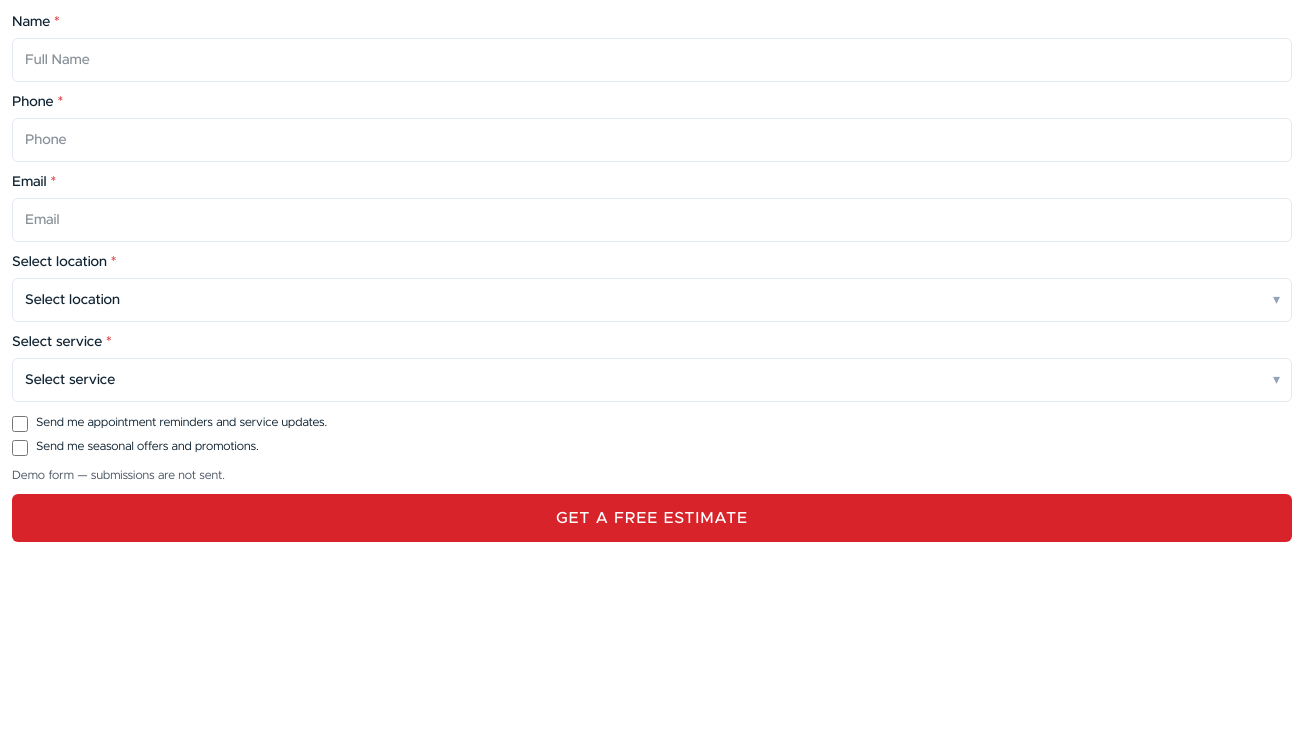
Scenario: EstimateForm › rejects malformed email and phone with field-level errors
Type "Jane" into the field labelled "Name *" at x=652, y=60, box [12,38,1292,82]
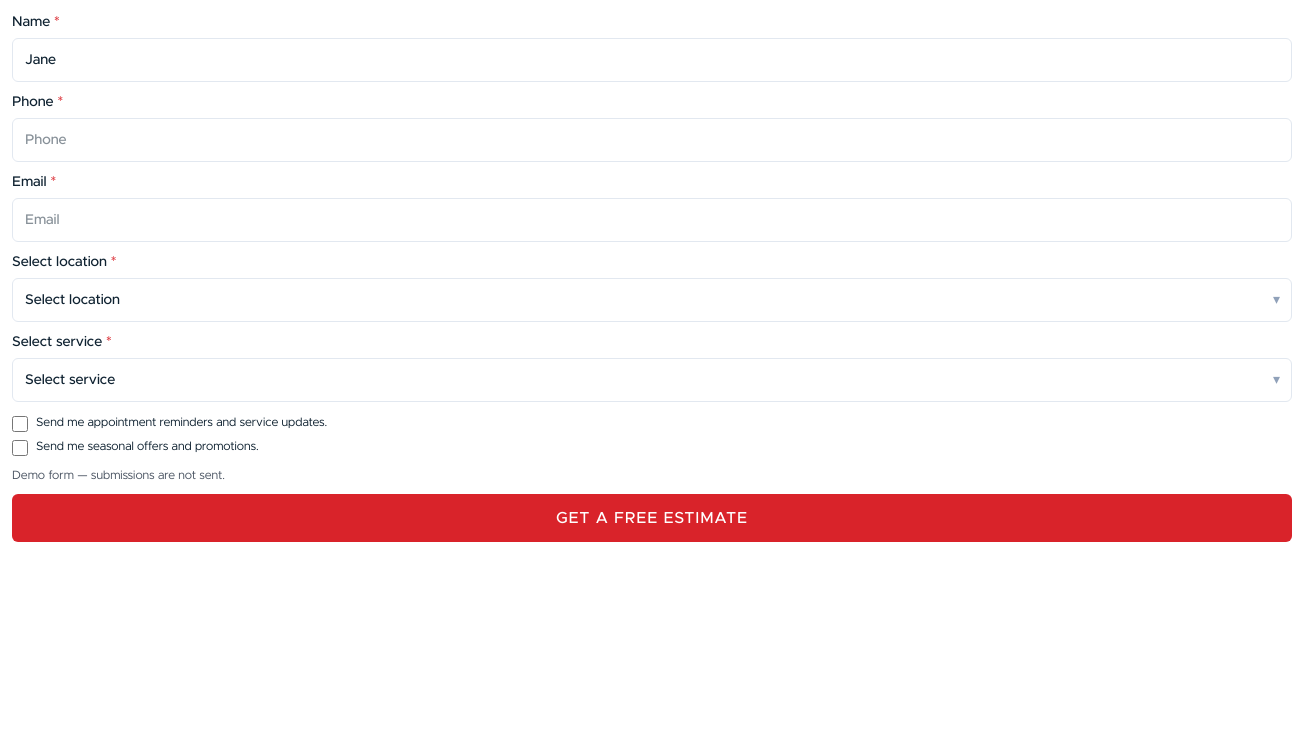
Type "abc" into the field labelled "Phone *" at x=652, y=140, box [12,118,1292,162]
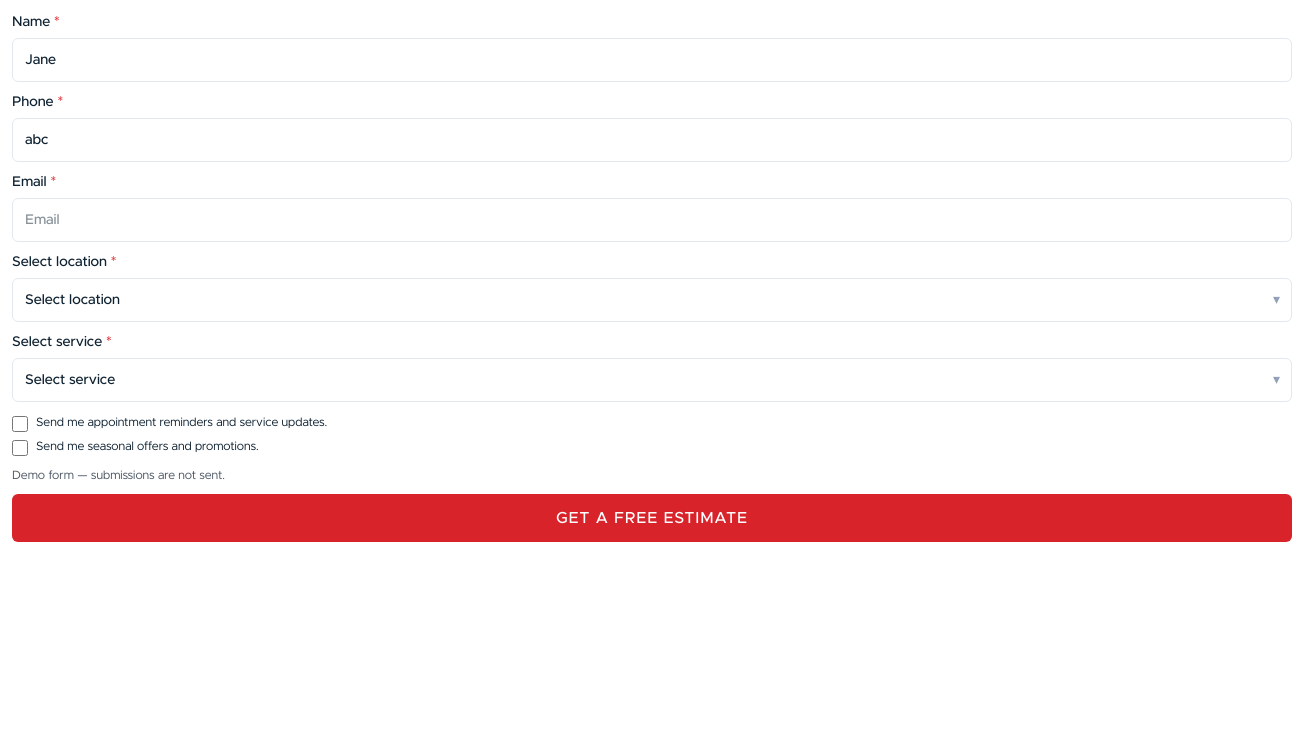
Type "not-an-email" into the field labelled "Email *" at x=652, y=220, box [12,198,1292,242]
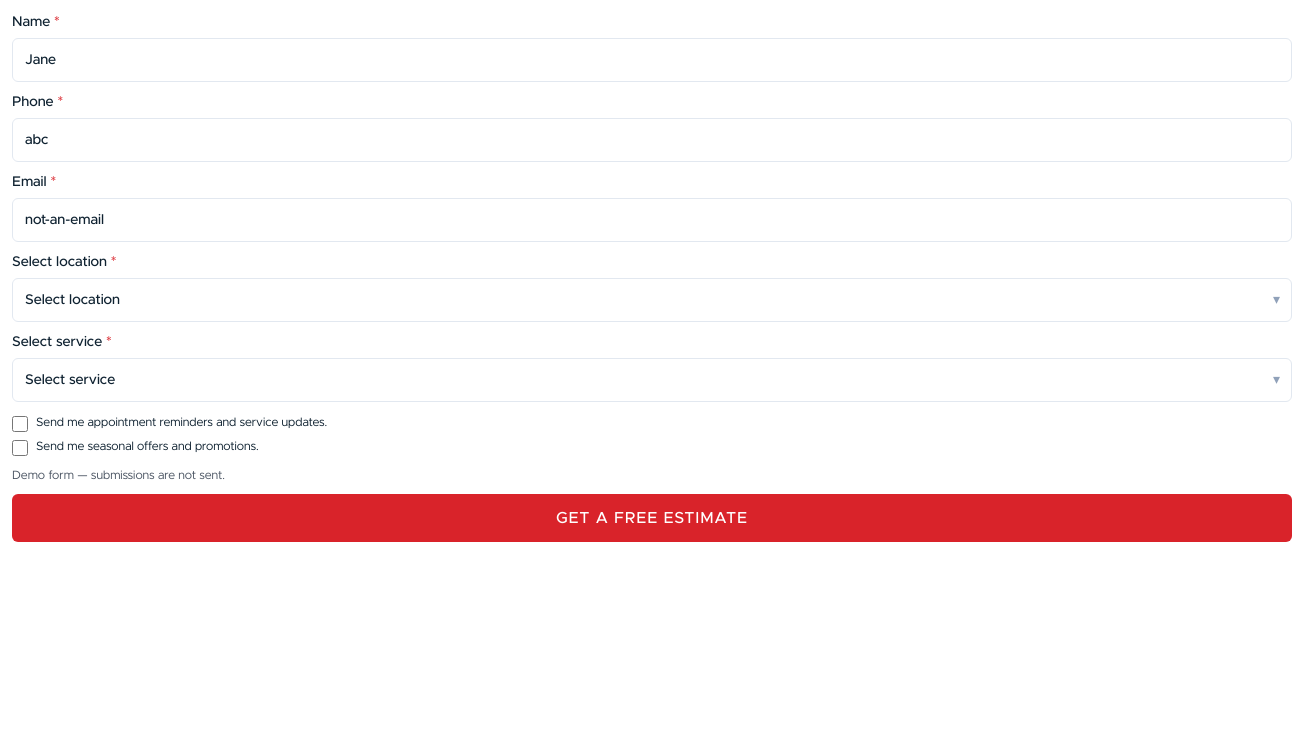
Select "Nashville Area" in the dropdown labelled "Select location *" at x=652, y=300, box [12,278,1292,322]
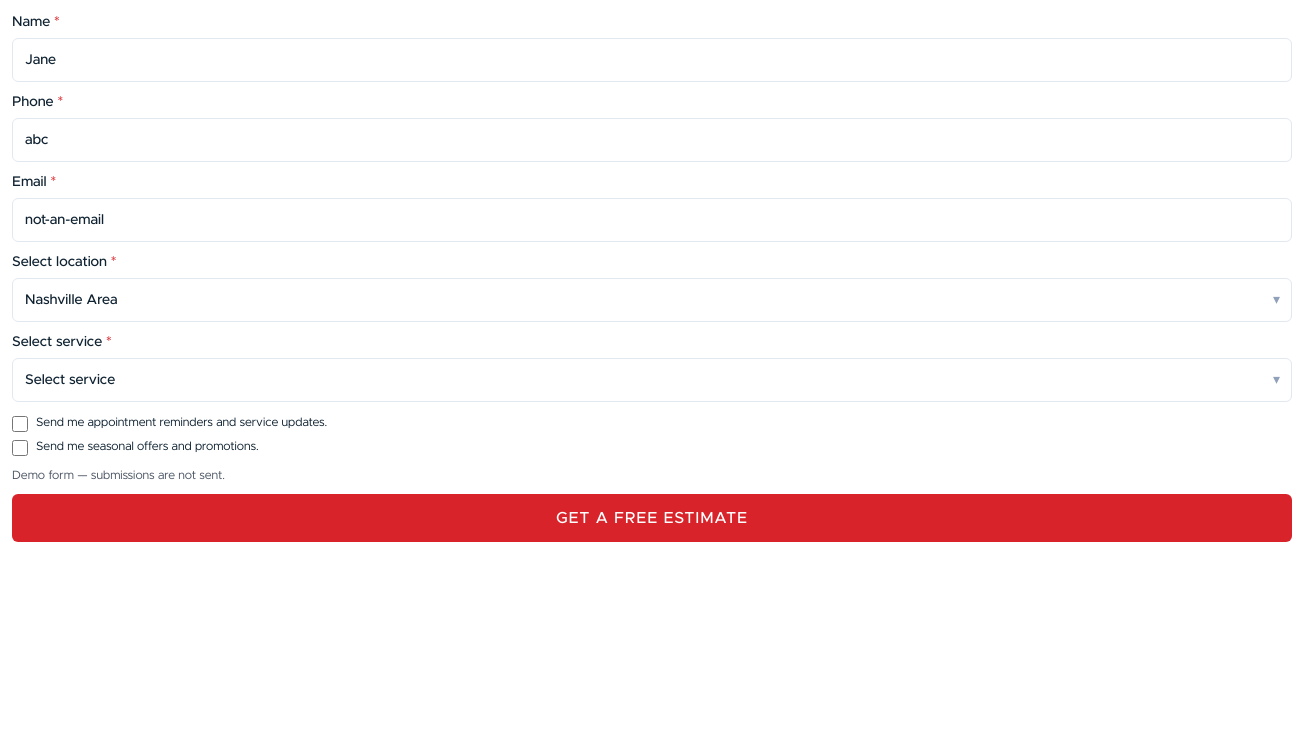
Select "Roofing" in the dropdown labelled "Select service *" at x=652, y=380, box [12,358,1292,402]
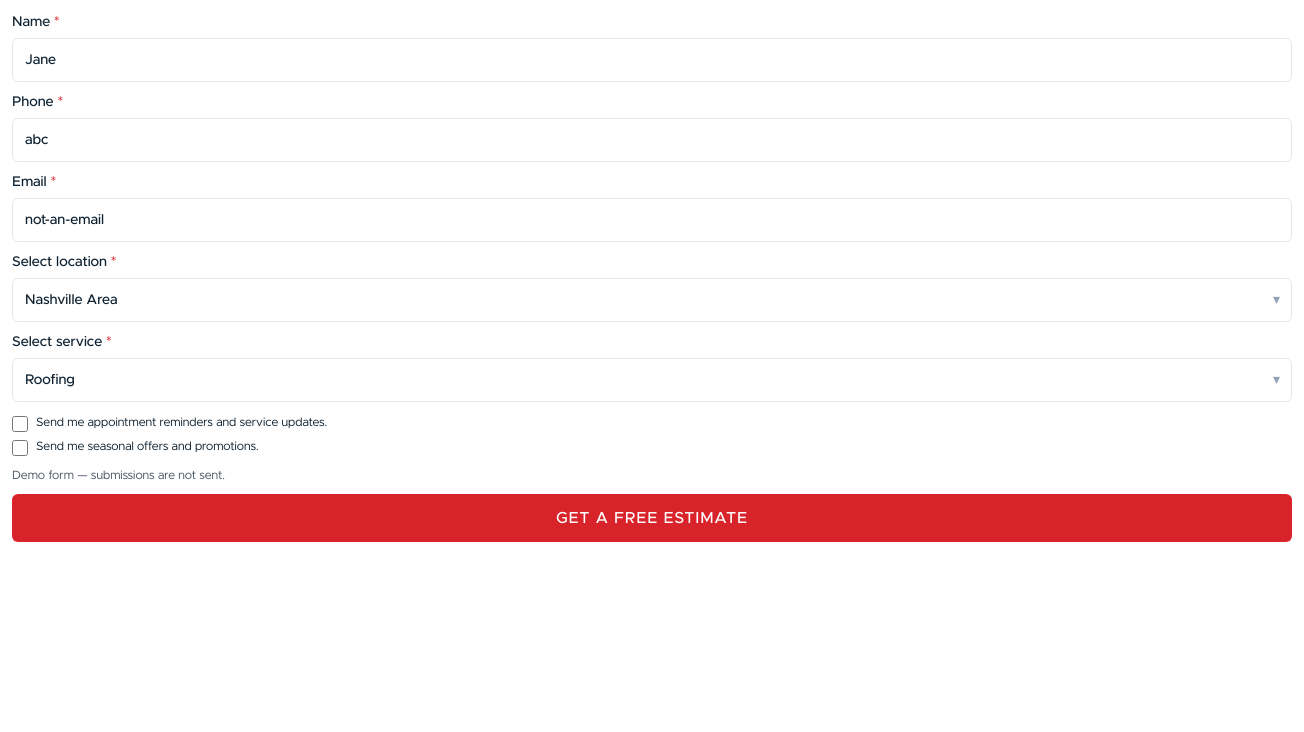
Click the button "Get a FREE estimate" at x=652, y=518, box [12,494,1292,542]
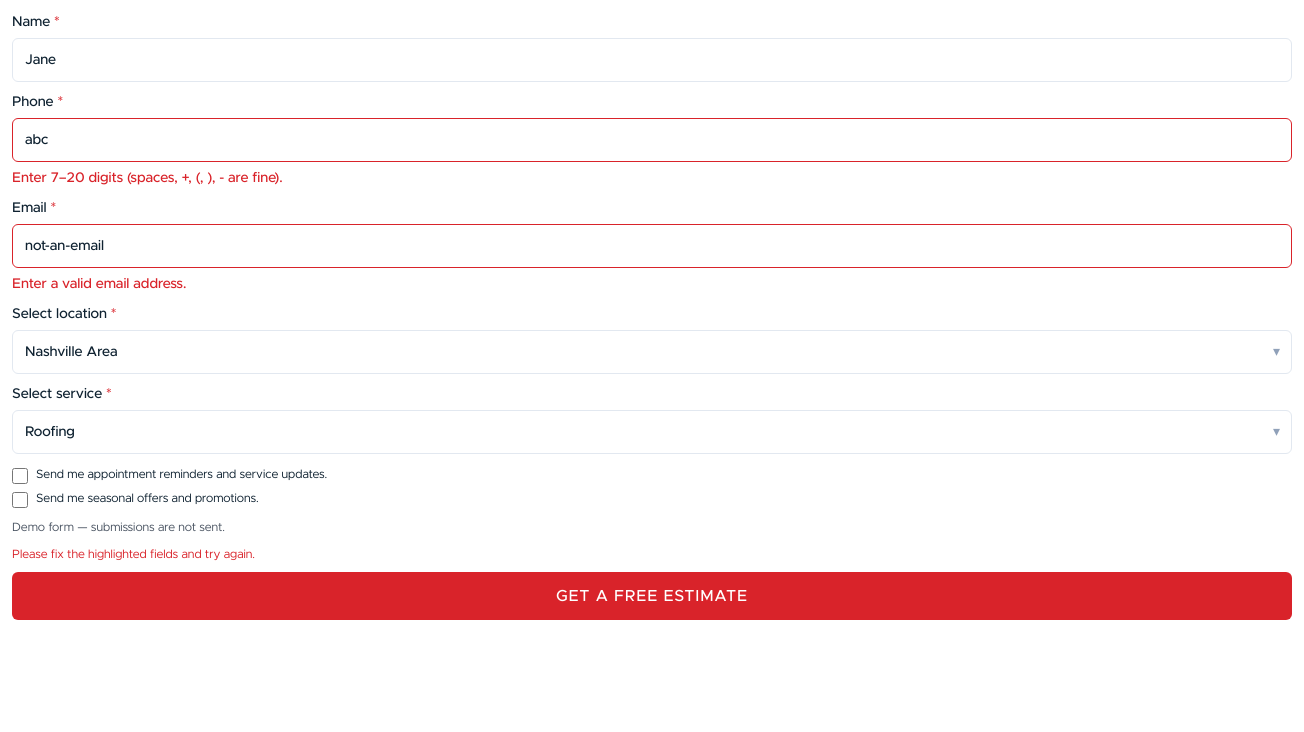
Result: the text "Enter 7–20 digits (spaces, +, (, ), - are fine)." is shown at [12,171,283,185]
Result: the text "Enter a valid email address." is shown at [12,277,186,291]
